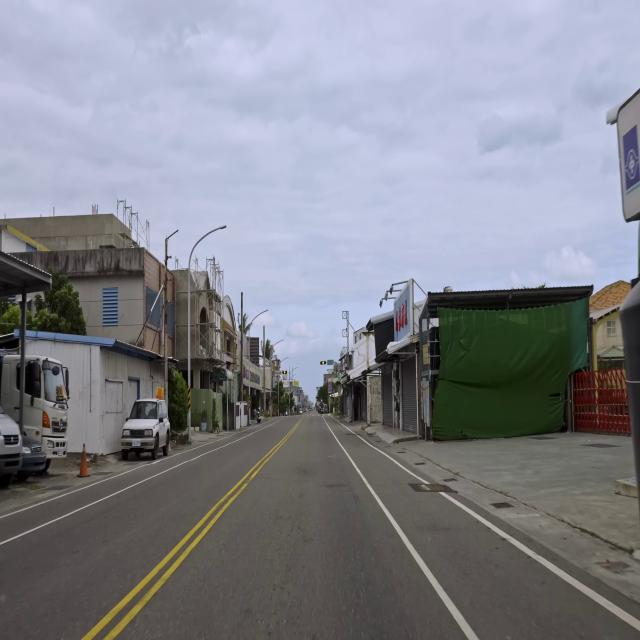yellow light: (319, 360, 326, 366), (282, 370, 287, 374)
